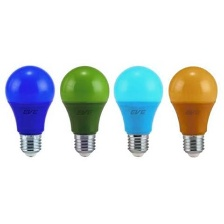light_bulb: (164, 61, 222, 160), (1, 62, 57, 160), (55, 61, 112, 157), (110, 64, 164, 158)
